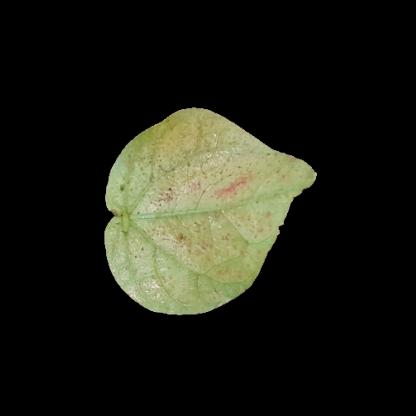curl_stage1: (129, 142, 245, 280), (236, 149, 284, 236)
